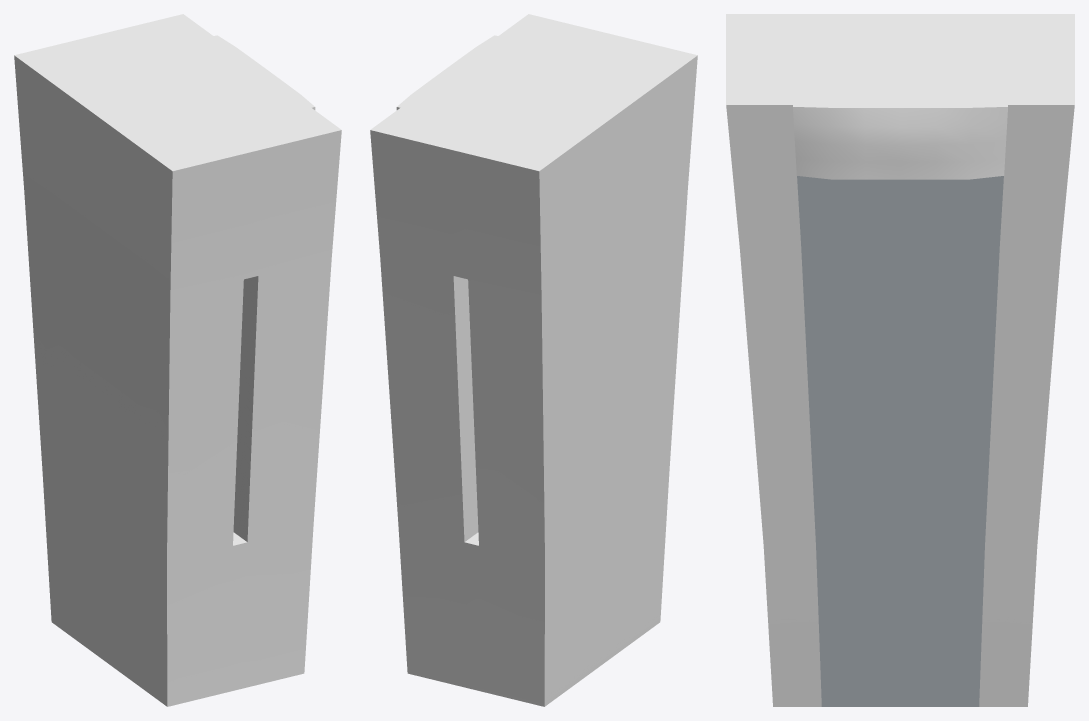
Rendered from fbx_building_5.fbx.
3 renders of one model, left to right at view 1: azimuth 30°, elevation 25°; view 2: azimuth 150°, elevation 25°; view 3: azimuth 270°, elevation 25°, orthographic. The views are drawn at different scales.
Parts seen in each view (by area): view 1: fbx_building_5; view 2: fbx_building_5; view 3: fbx_building_5.
Boxes of the visible parts, x1,y1,x2,y2 form: fbx_building_5: (14, 14, 341, 706); fbx_building_5: (370, 14, 697, 706); fbx_building_5: (726, 14, 1074, 706).
Size of the model in its own units: 9.57 by 28.09 by 14.54.
2 materials, 1 textured.
